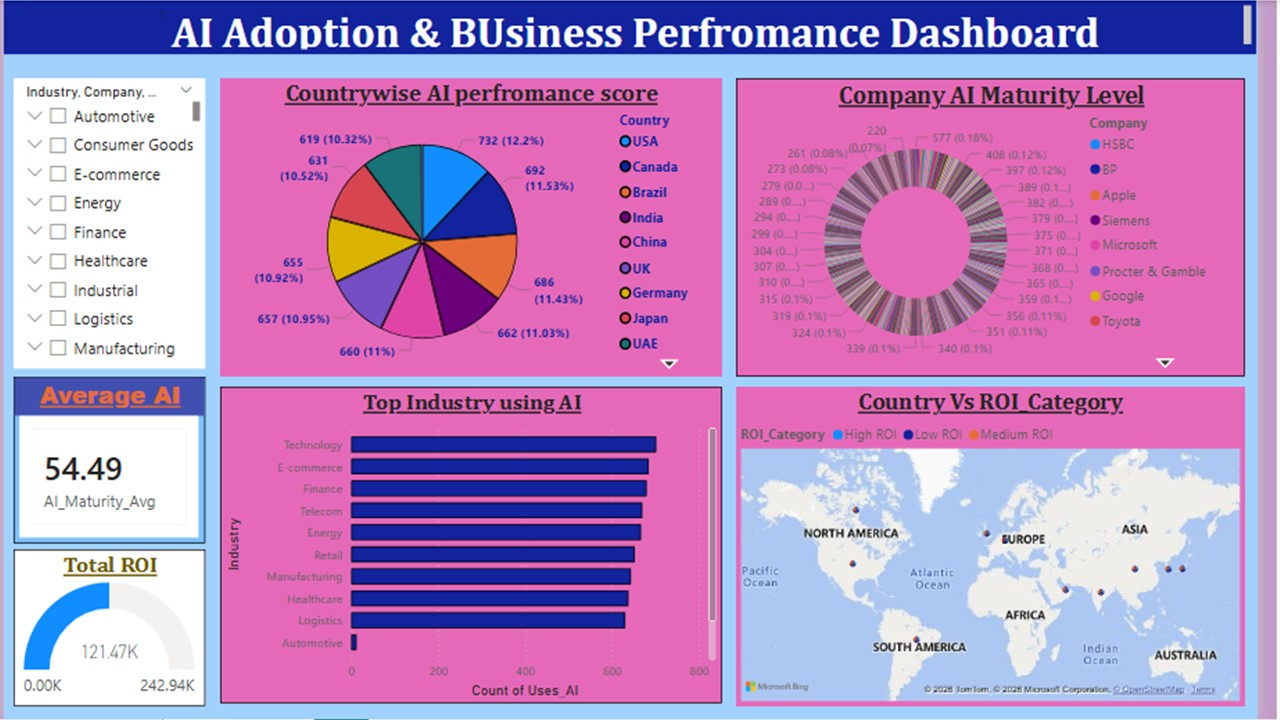

The page's visual inventory and layout, read from the dashboard file:
{"tool":"powerbi","page":{"name":"AI_Adoption","canvas":[1280,720],"ordinal":0},"visuals":[{"type":"cardVisual","title":"Average AI","fields":{"Data":["Avg(AI_foortune_500_Companies_cleaned_Dataset (2).AI_Maturity_Score)"]},"box":[9.9,377,195.6,167.2],"z":0},{"type":"gauge","title":"Total ROI","fields":{"Y":["Sum(AI_foortune_500_Companies_cleaned_Dataset (2).AI_ROI_Percent)"]},"box":[9.9,549.9,195.6,157.3],"z":1000},{"type":"barChart","title":"Top Industry using AI","fields":{"Category":["AI_foortune_500_Companies_cleaned_Dataset (2).Industry"],"Y":["CountNonNull(AI_foortune_500_Companies_cleaned_Dataset (2).Uses_AI)"]},"box":[221.1,386.9,513.1,317.5],"z":2000},{"type":"donutChart","title":"Company AI Maturity Level","fields":{"Y":["Sum(AI_foortune_500_Companies_cleaned_Dataset (2).AI_Maturity_Score)"],"Category":["AI_foortune_500_Companies_cleaned_Dataset (2).Company"]},"box":[748.3,78,520.2,299.1],"z":3000},{"type":"map","title":"Country Vs ROI_Category","fields":{"Category":["AI_foortune_500_Companies_cleaned_Dataset (2).Country"],"Series":["AI_foortune_500_Companies_cleaned_Dataset (2).ROI_Category"]},"box":[748.3,386.9,520.2,320.3],"z":4000},{"type":"pieChart","title":"Countrywise AI perfromance score","fields":{"Y":["CountNonNull(AI_foortune_500_Companies_cleaned_Dataset (2).AI_Perfromance_Score)"],"Category":["AI_foortune_500_Companies_cleaned_Dataset (2).Country"]},"box":[221.1,78,513.1,299.1],"z":5000},{"type":"textbox","box":[0,0,1279.8,53.9],"z":6000},{"type":"slicer","fields":{"Values":["AI_foortune_500_Companies_cleaned_Dataset (2).Industry","AI_foortune_500_Companies_cleaned_Dataset (2).Company","AI_foortune_500_Companies_cleaned_Dataset (2).ROI_Category"]},"box":[9.9,78,195.6,290.6],"z":7000}]}

Visuals, with their boxes in screenshot pixels (x1, y1, x2, y2), scaled from the page's 1280x720 canvas onto the 1280x720 screenshot:
"Average AI" cardVisual: x1=10, y1=377, x2=206, y2=544
"Total ROI" gauge: x1=10, y1=550, x2=206, y2=707
"Top Industry using AI" barChart: x1=221, y1=387, x2=734, y2=704
"Company AI Maturity Level" donutChart: x1=748, y1=78, x2=1268, y2=377
"Country Vs ROI_Category" map: x1=748, y1=387, x2=1268, y2=707
"Countrywise AI perfromance score" pieChart: x1=221, y1=78, x2=734, y2=377
textbox: x1=0, y1=0, x2=1279, y2=54
slicer - AI_foortune_500_Companies_cleaned_Dataset (2).Industry x AI_foortune_500_Companies_cleaned_Dataset (2).Company: x1=10, y1=78, x2=206, y2=369
